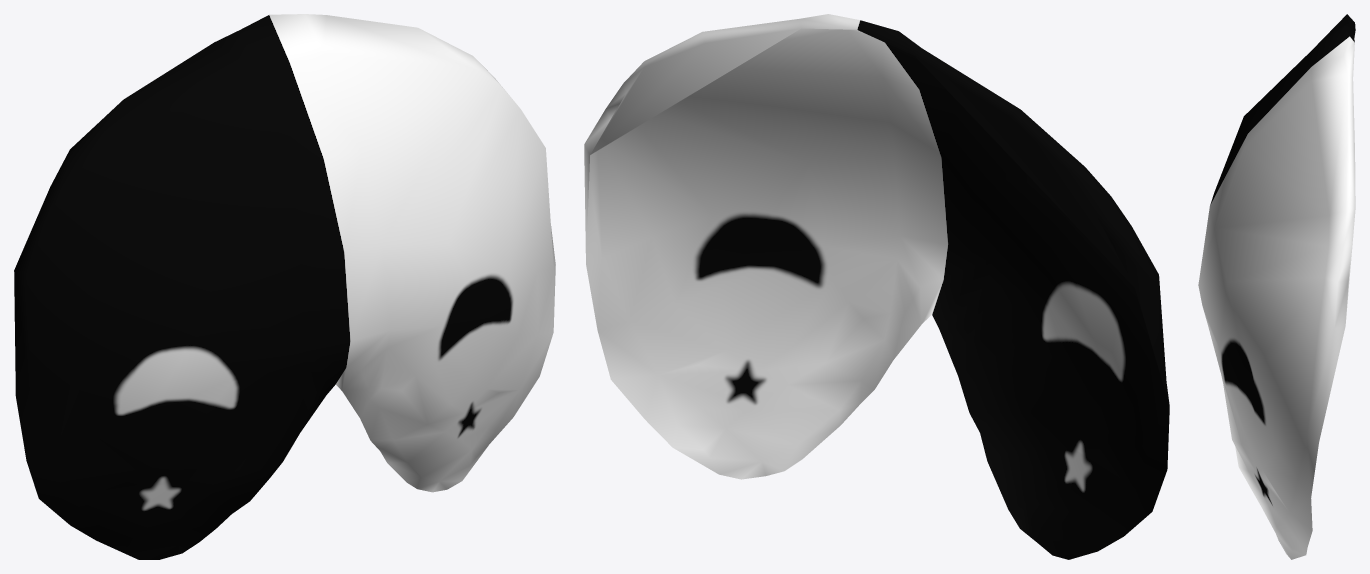
The model's file is LV12_mask.fbx.
3 views of the same model, side by side, from view 1: azimuth 30°, elevation 25°; view 2: azimuth 150°, elevation 25°; view 3: azimuth 270°, elevation 25° (orthographic). The views are drawn at different scales.
Visible parts, largest first — view 1: mask; view 2: mask; view 3: mask.
Part boxes in pixels (box(x1,y1,x2,y2)): mask: box(14, 14, 555, 559); mask: box(584, 14, 1169, 559); mask: box(1198, 14, 1355, 559).
Bounding box in the file's own units: 16.46 × 14.13 × 4.45.
1 material, 1 textured.
